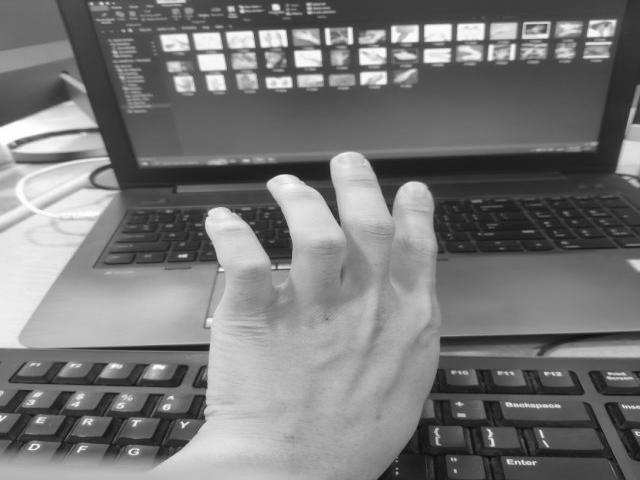not-gloved: (196, 149, 441, 480)
